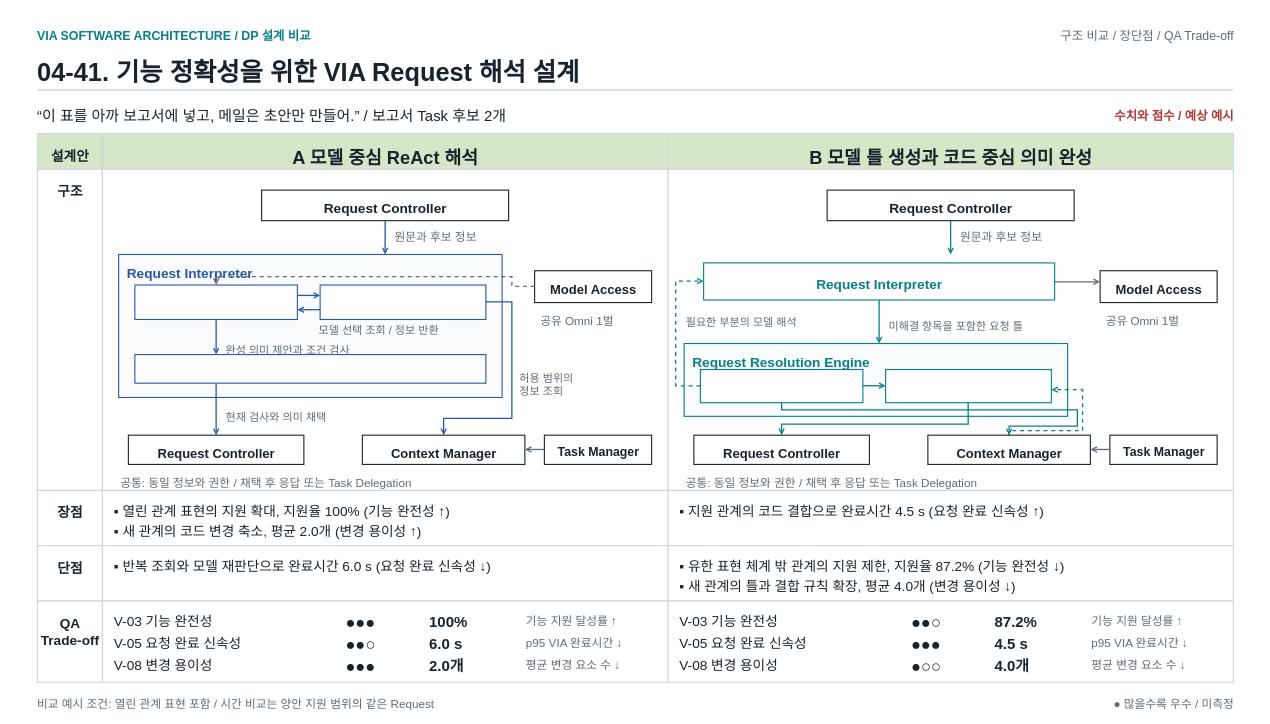
This 1270x724 diagram has some shape labels left out. Here are the shapes that lost their labels. From the top down, the centre of each, then its label:
At (x=216, y=302): "ReAct 해석 제어기".
At (x=402, y=302): "읽기 도구 실행기".
At (x=310, y=368): "의미 제안 검증기".
At (x=781, y=386): "미해결 항목 처리기".
At (x=968, y=386): "관계 결합기".
